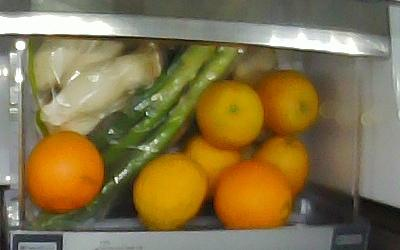orange: (25, 130, 104, 212), (132, 153, 207, 229), (213, 161, 291, 228), (195, 79, 264, 148), (255, 70, 320, 135), (251, 134, 311, 200)
